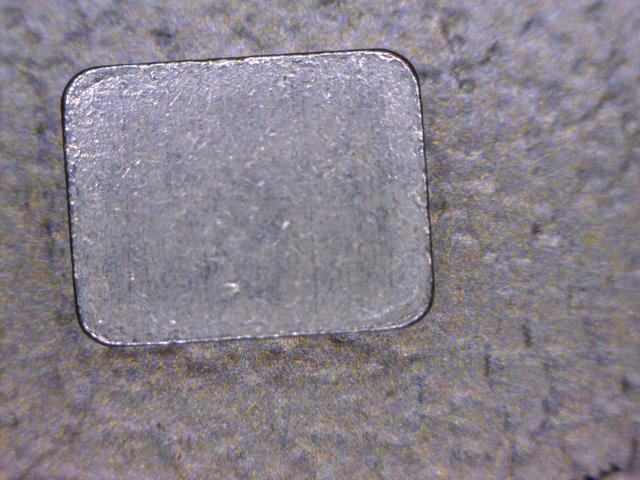ok: (57, 44, 440, 345)
